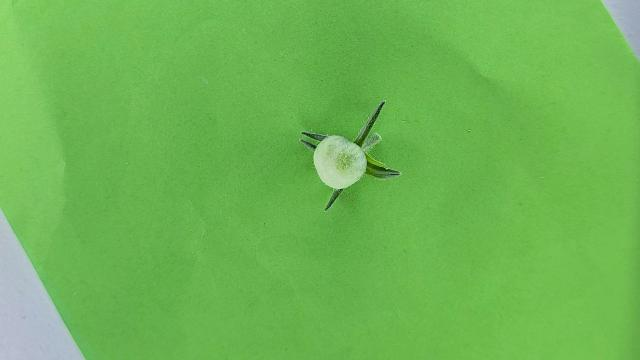Fruit Maturation: (313, 135, 369, 191)
